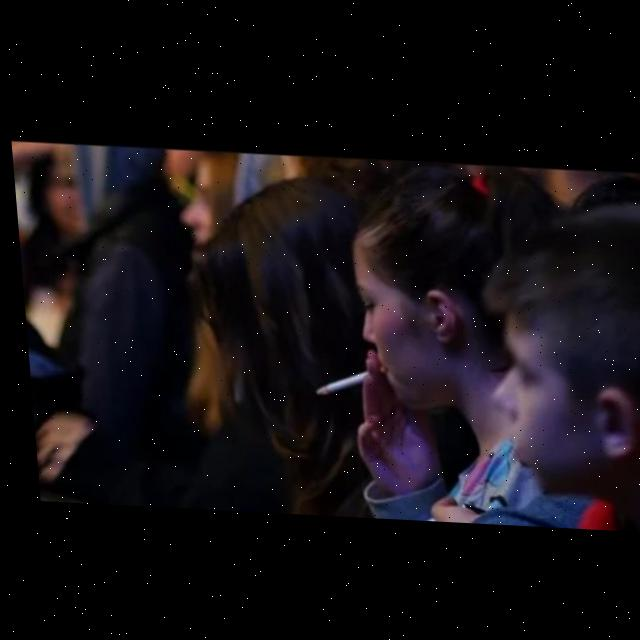cigarette: (307, 360, 384, 395)
